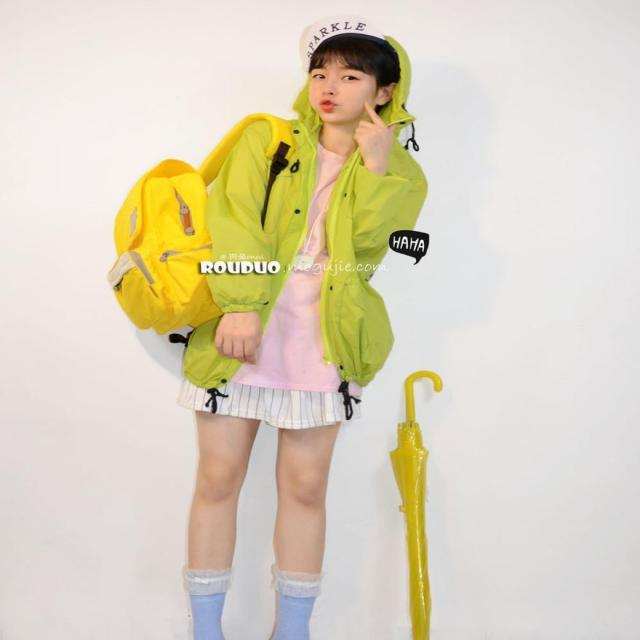long sleeve outwear: (171, 71, 324, 414)
skirt: (176, 334, 363, 430)
